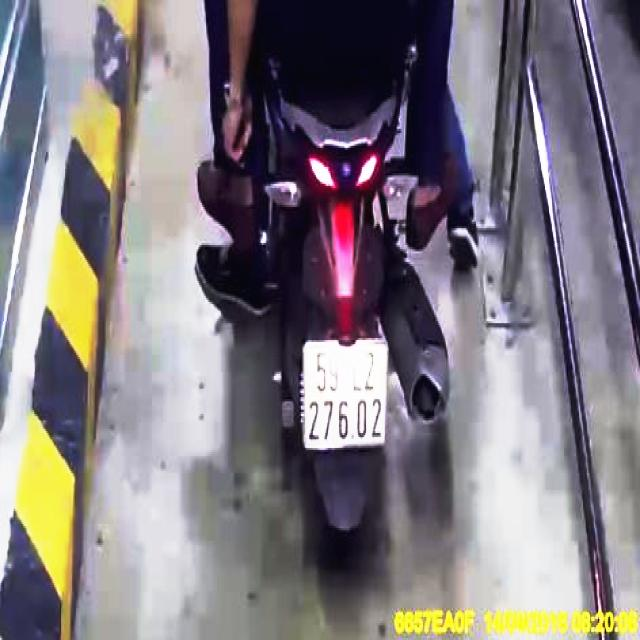license_plate: (305, 345, 387, 450)
